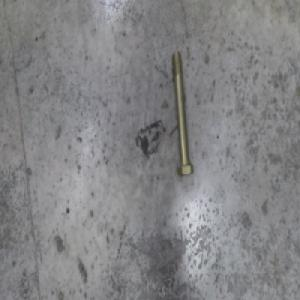Bolt: (169, 54, 193, 178)
